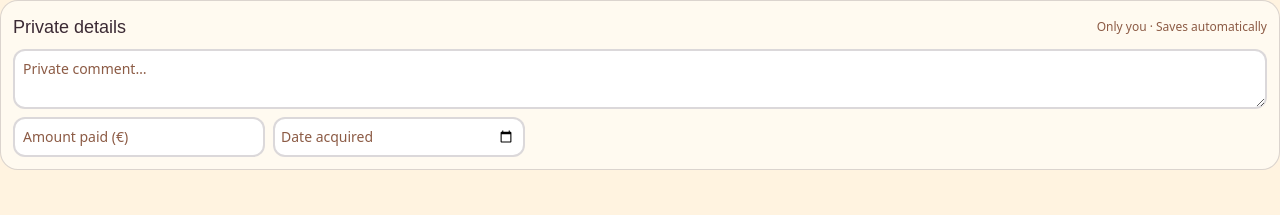
Test: GamePrivateDetailsForm › retains the draft after a failed save and saves the next edit
The width and height of the screenshot is (1280, 215).
Type "Keep my note" into the text box at x=640, y=79, box [13, 49, 1267, 109]
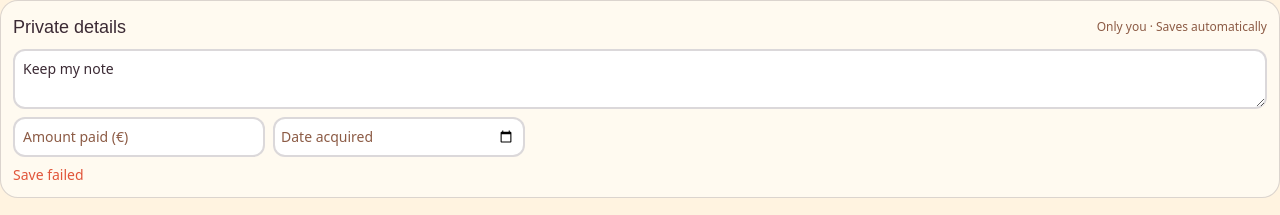
Now the message "Save failed" is shown, box [13, 165, 84, 184]
Replace the text in the text box with "Keep my updated note" at x=640, y=79, box [13, 49, 1267, 109]
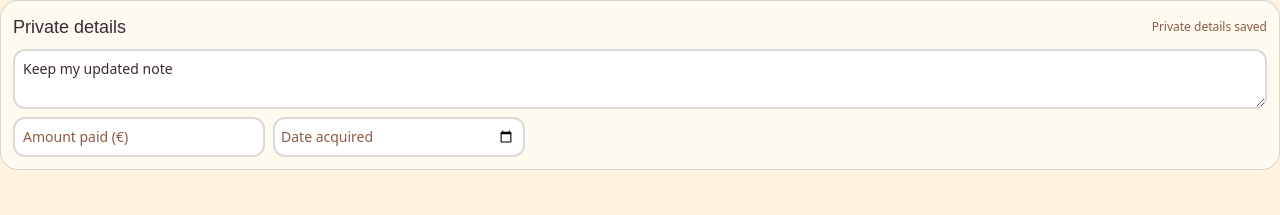
Now the text "Private details saved" is shown, box [1152, 19, 1267, 35]
